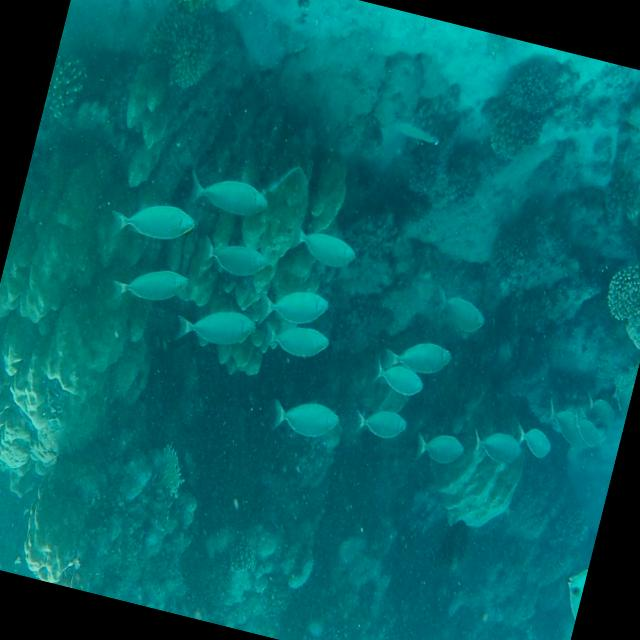Sokar Baligi: (98, 178, 212, 256), (95, 248, 196, 320), (180, 157, 276, 230), (275, 208, 368, 280), (164, 296, 261, 364), (263, 386, 346, 449)
